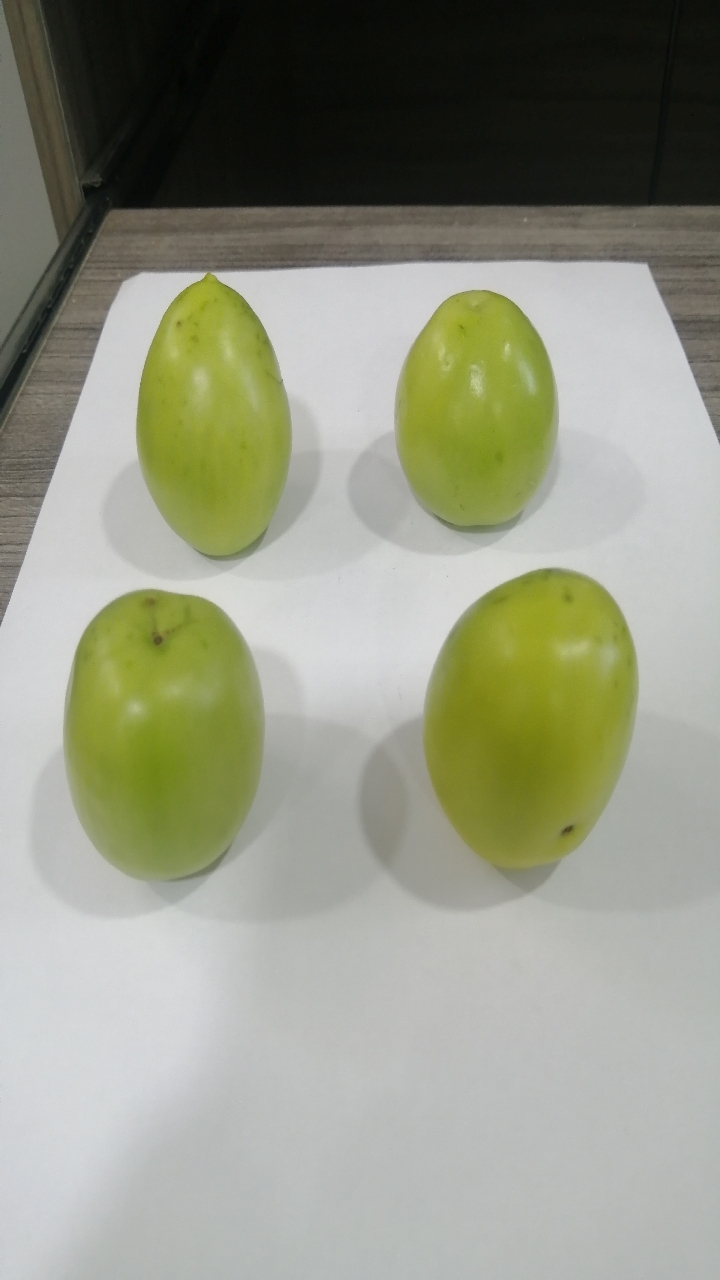tomateVerde: (57, 575, 272, 900), (417, 554, 629, 880), (101, 251, 304, 577), (378, 272, 578, 562)
